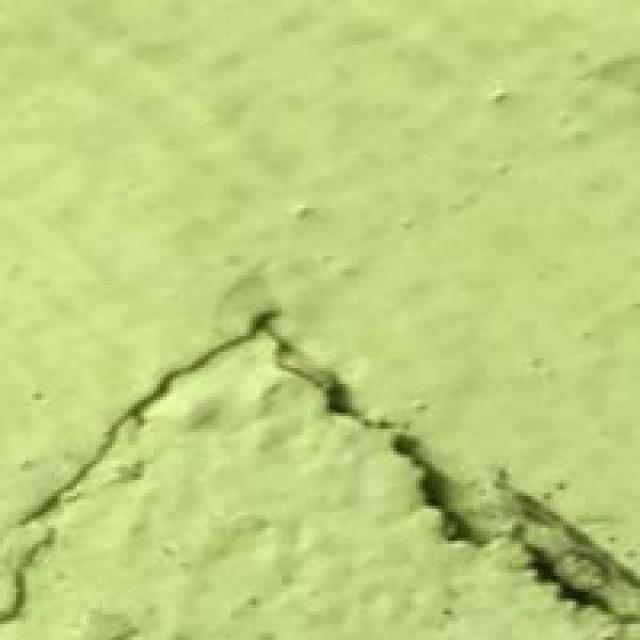Crack: (26, 288, 637, 637)
